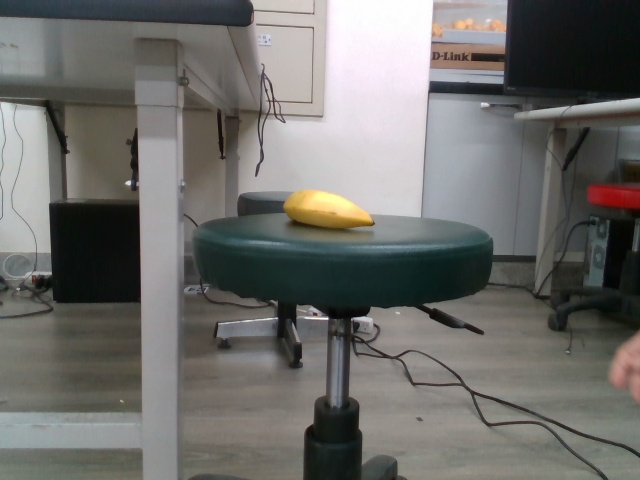banana: (280, 185, 377, 232)
